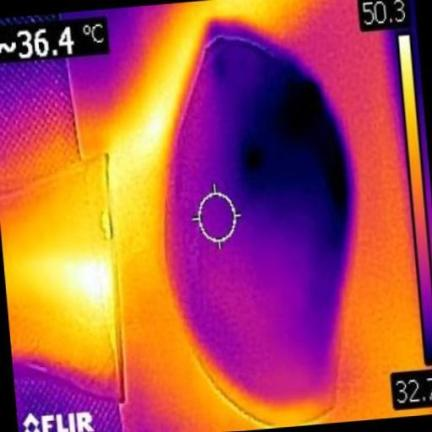mango: (164, 32, 350, 420)
